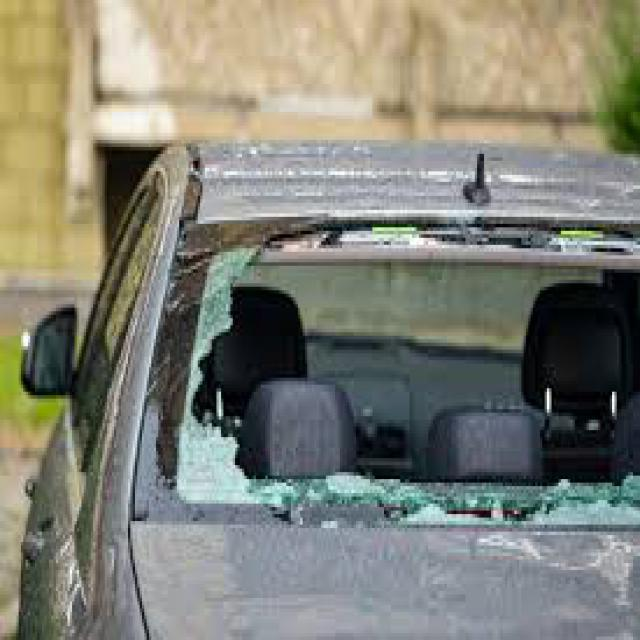Rear-windscreen-Damage: (95, 185, 638, 534)
